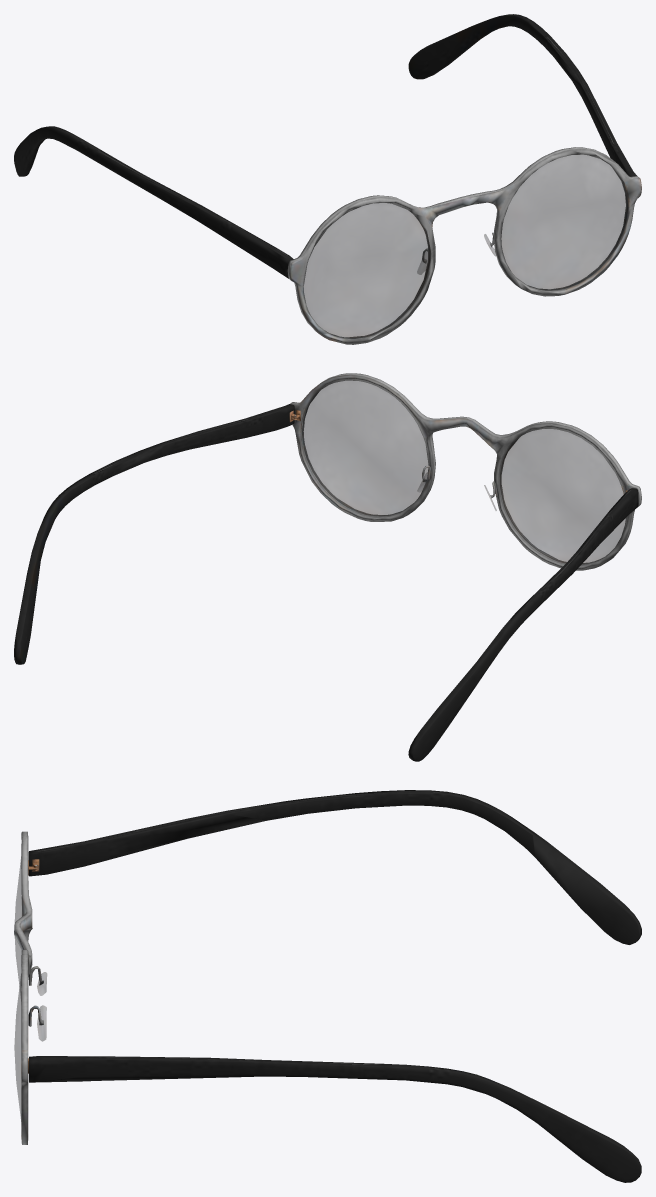
File: glasses.glb
3 views of the same model, one above another, from view 1: azimuth 30°, elevation 25°; view 2: azimuth 150°, elevation 25°; view 3: azimuth 270°, elevation 25° (orthographic). The views are drawn at different scales.
Parts seen in each view (by area): view 1: round_spectacles; view 2: round_spectacles; view 3: round_spectacles.
Boxes of the visible parts, x1=… form: round_spectacles: x1=14, y1=14, x2=641, y2=344; round_spectacles: x1=14, y1=373, x2=641, y2=761; round_spectacles: x1=14, y1=790, x2=641, y2=1182.
Bounding box in the file's own units: 0.1578 × 0.0463 × 0.1489.
2 materials, 2 textured.
